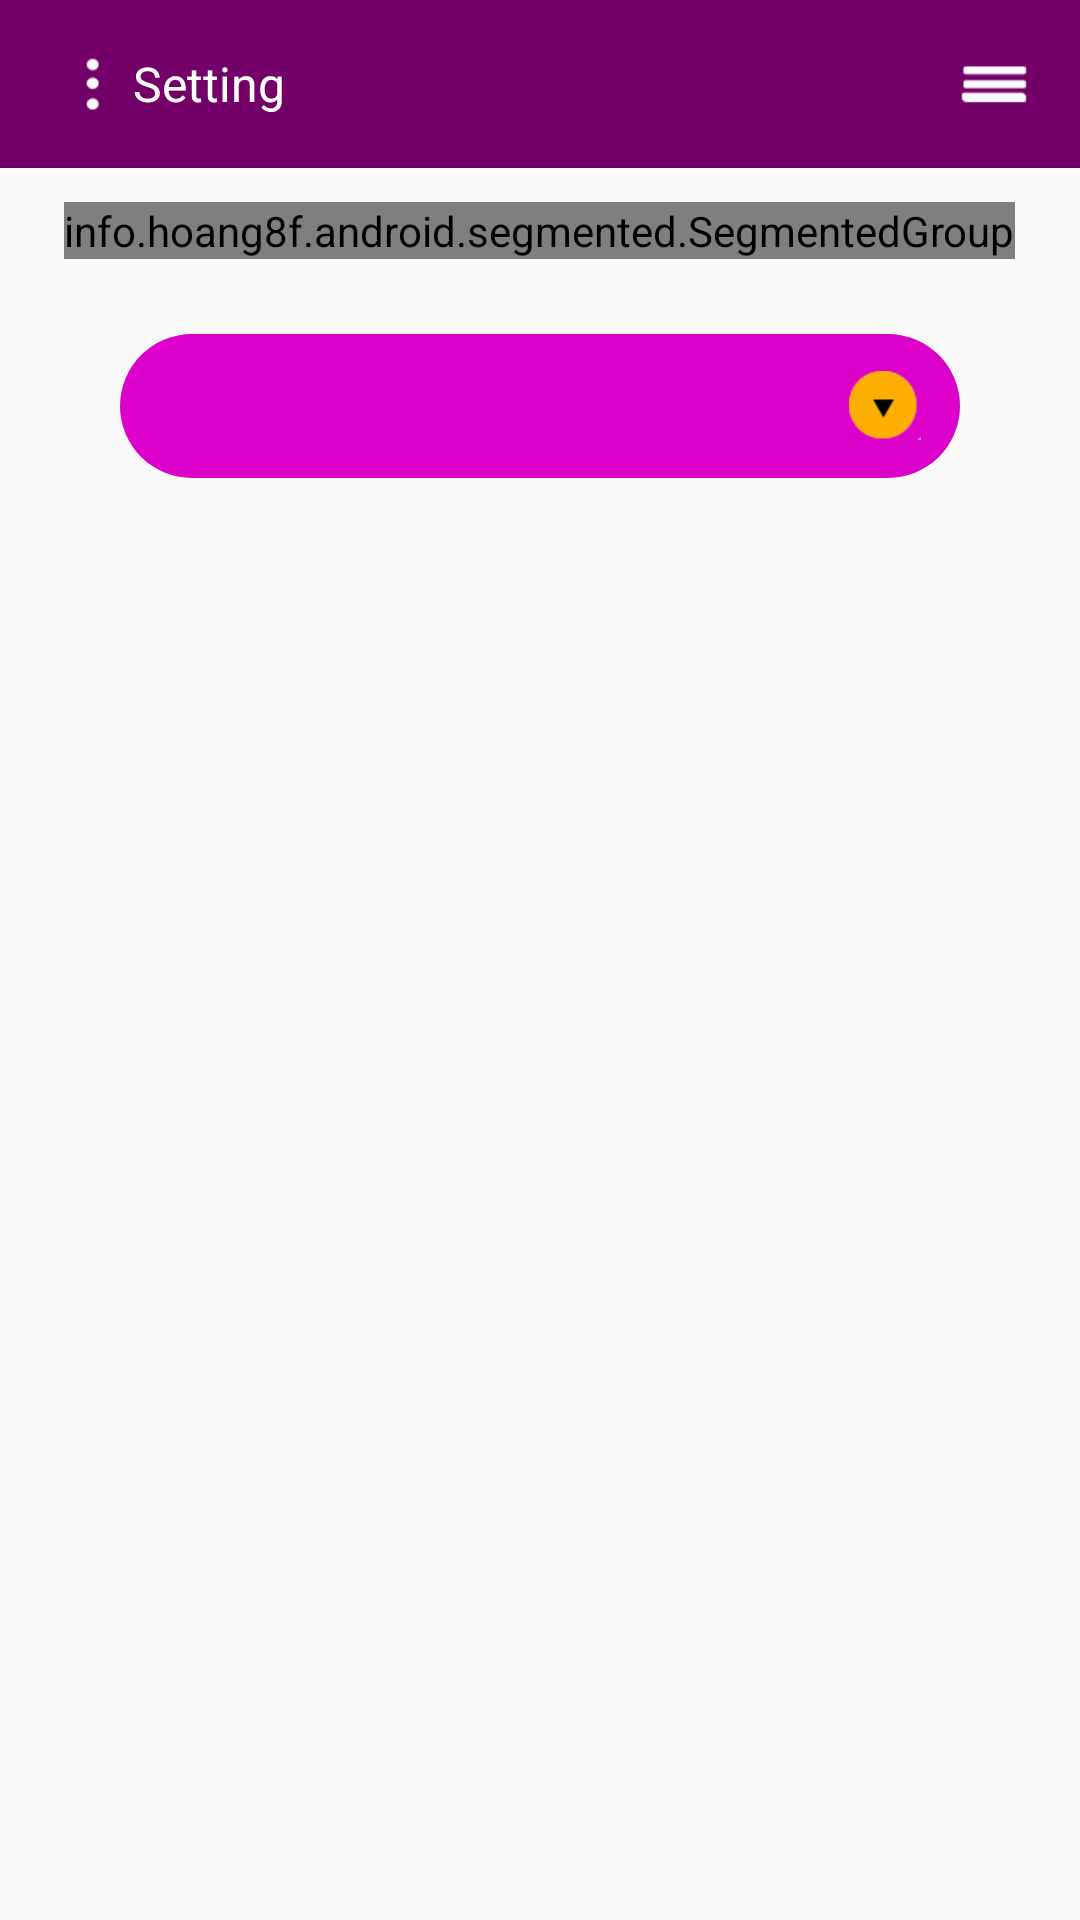

Locate icon controls on the screen. Image size 1080 × 1920, boxes as (x1, y1, x2, y2).
menu: (961, 66, 1027, 103)
